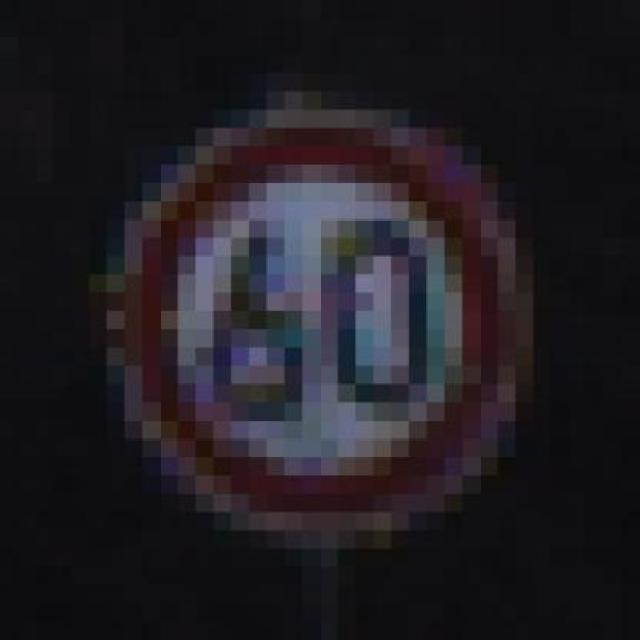forb_speed_over_60: (129, 116, 509, 527)
